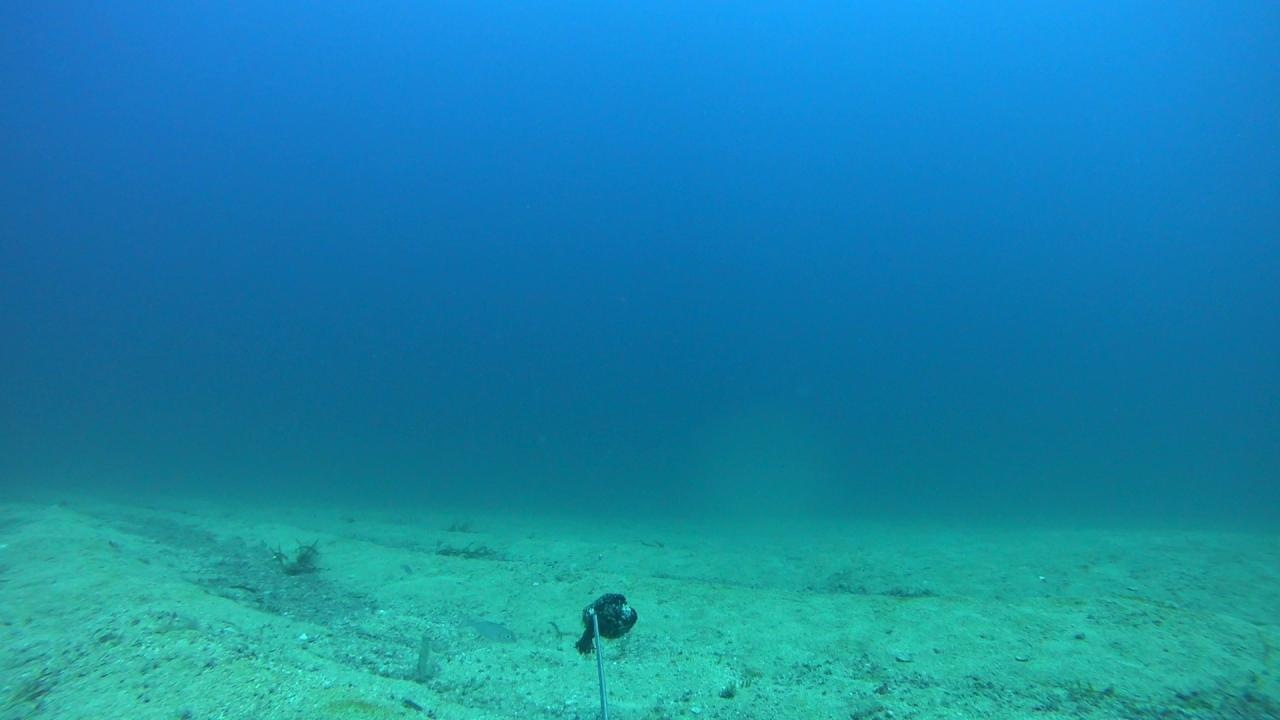pagellus: (457, 611, 517, 645)
